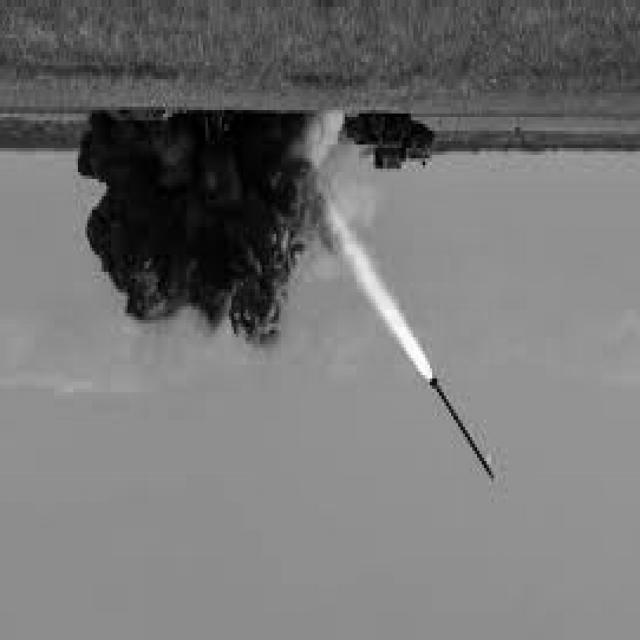Missile: (423, 368, 498, 486)
